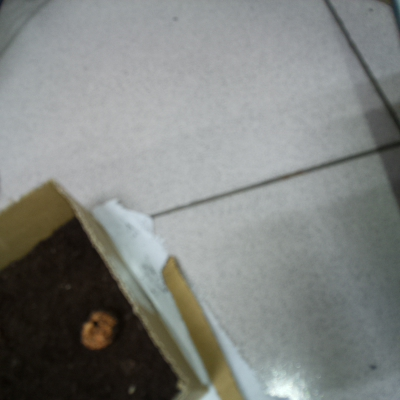eggs: (71, 305, 122, 355)
